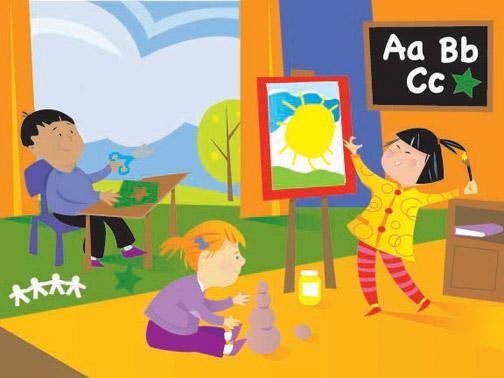chair: (20, 159, 83, 265)
person: (343, 126, 479, 320), (17, 108, 148, 269), (143, 219, 251, 358)
